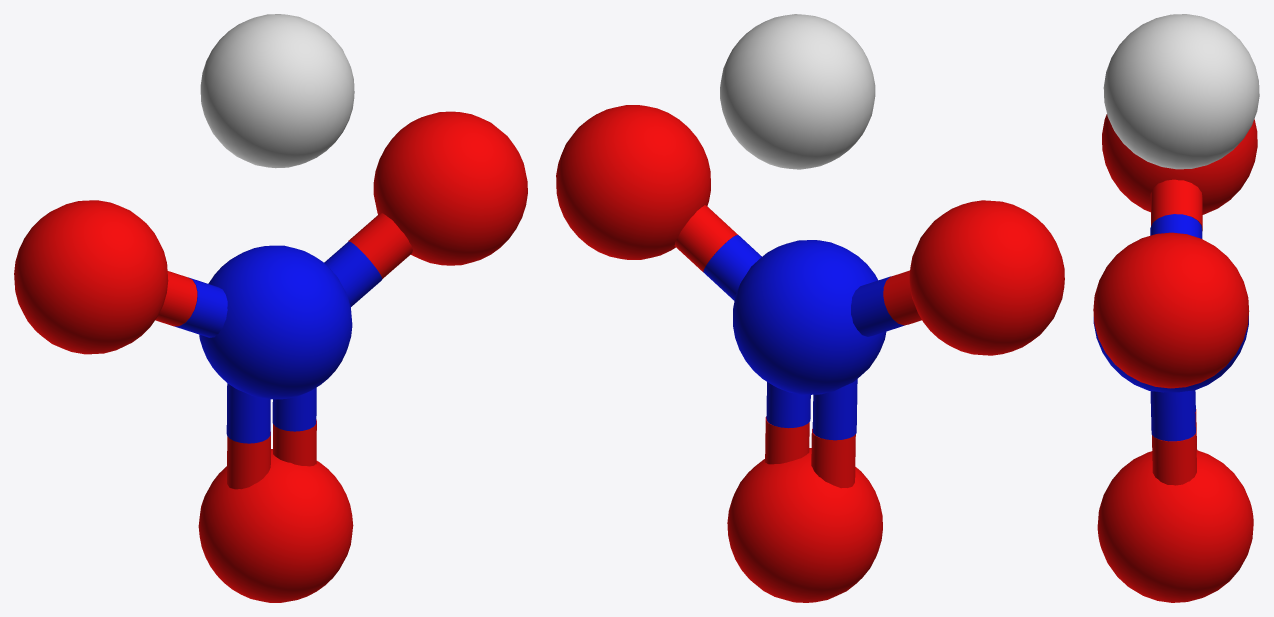
Rendered from uploads_files_2040684_silverNitrate.FBX.
3 renders of one model, left to right at view 1: azimuth 30°, elevation 25°; view 2: azimuth 150°, elevation 25°; view 3: azimuth 270°, elevation 25°, orthographic.
Parts seen in each view (by area): view 1: Sphere069, Sphere067, Sphere066, Sphere065, Sphere068, Cylinder136, Cylinder134, Cylinder135, Cylinder133, Cylinder132, Cylinder131, Cylinder137 (+1 smaller); view 2: Sphere067, Sphere069, Sphere066, Sphere065, Sphere068, Cylinder134, Cylinder136, Cylinder133, Cylinder135, Cylinder132, Cylinder138, Cylinder137 (+1 smaller); view 3: Sphere066, Sphere069, Sphere068, Sphere067, Cylinder137, Cylinder138, Cylinder131, Sphere065, Cylinder132.
Boxes of the visible parts, x1,y1,x2,y2 form: Sphere069: (200, 14, 354, 168); Sphere067: (14, 200, 168, 354); Sphere066: (373, 111, 527, 265); Sphere065: (199, 245, 352, 399); Sphere068: (198, 449, 353, 602); Cylinder136: (348, 213, 412, 278); Cylinder134: (226, 383, 270, 443); Cylinder135: (324, 241, 382, 306); Cylinder133: (227, 432, 270, 489); Cylinder132: (174, 277, 227, 337); Cylinder131: (155, 271, 197, 326); Cylinder137: (272, 387, 316, 431); Sphere067: (909, 200, 1064, 355); Sphere069: (720, 14, 875, 169); Sphere066: (556, 105, 710, 259); Sphere065: (733, 240, 886, 394); Sphere068: (727, 448, 882, 602); Cylinder134: (812, 379, 857, 440); Cylinder136: (674, 205, 737, 271); Cylinder133: (811, 429, 855, 488); Cylinder135: (703, 235, 761, 300); Cylinder132: (851, 276, 904, 336); Cylinder138: (765, 417, 809, 464); Cylinder137: (766, 382, 810, 428); Sphere066: (1093, 232, 1249, 388); Sphere069: (1103, 14, 1259, 169); Sphere068: (1097, 450, 1253, 602); Sphere067: (1102, 114, 1257, 214); Cylinder137: (1150, 390, 1195, 441); Cylinder138: (1152, 431, 1196, 485); Cylinder131: (1150, 179, 1202, 230); Sphere065: (1093, 316, 1248, 392); Cylinder132: (1150, 214, 1202, 238).
Bounding box in the file's own units: 50.93 × 56.87 × 14.86.
